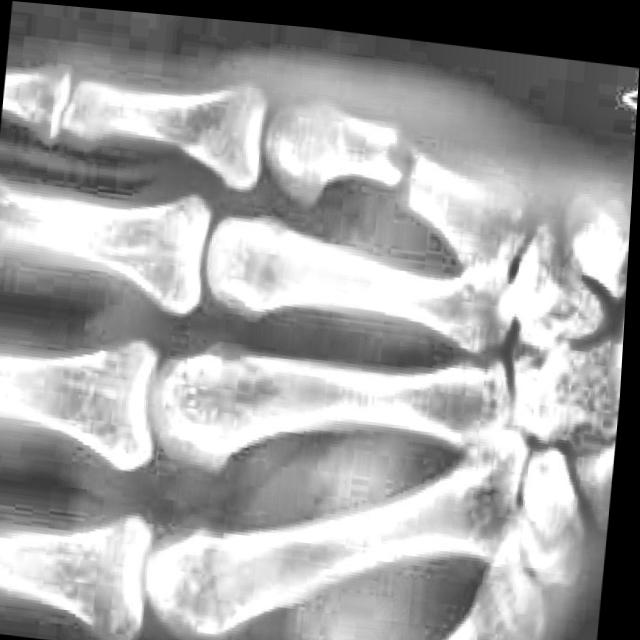fracture: (380, 111, 430, 203)
